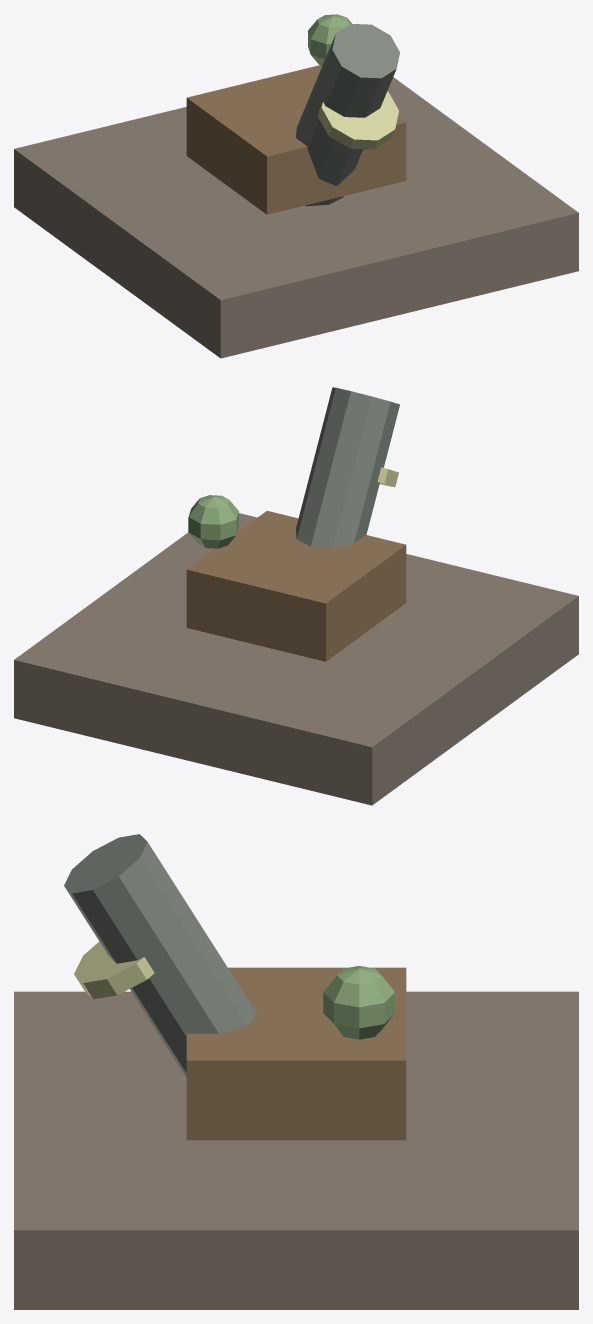
The model's file is orc_flak.glb.
The picture shows the model from 3 angles, top to bottom: view 1: azimuth 30°, elevation 25°; view 2: azimuth 150°, elevation 25°; view 3: azimuth 270°, elevation 25°; orthographic projection. The views are drawn at different scales.
Parts seen in each view (by area): view 1: Base, TurretMesh, BarrelPivotMesh; view 2: Base, TurretMesh, BarrelPivotMesh; view 3: Base, TurretMesh, BarrelPivotMesh.
Boxes of the visible parts, x1,y1,x2,y2 form: Base: [14, 77, 578, 358]; TurretMesh: [186, 14, 406, 214]; BarrelPivotMesh: [295, 24, 399, 206]; Base: [14, 513, 578, 805]; TurretMesh: [186, 495, 406, 661]; BarrelPivotMesh: [295, 387, 399, 548]; Base: [14, 991, 578, 1309]; TurretMesh: [186, 966, 406, 1140]; BarrelPivotMesh: [64, 834, 256, 1077].
Size of the model in its own units: 1.8 by 1.23 by 1.8.
